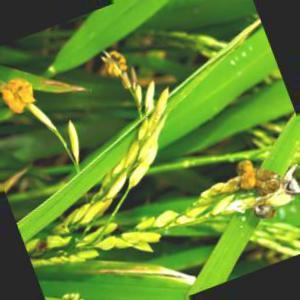False Smut: (4, 76, 38, 117), (239, 156, 268, 199)
